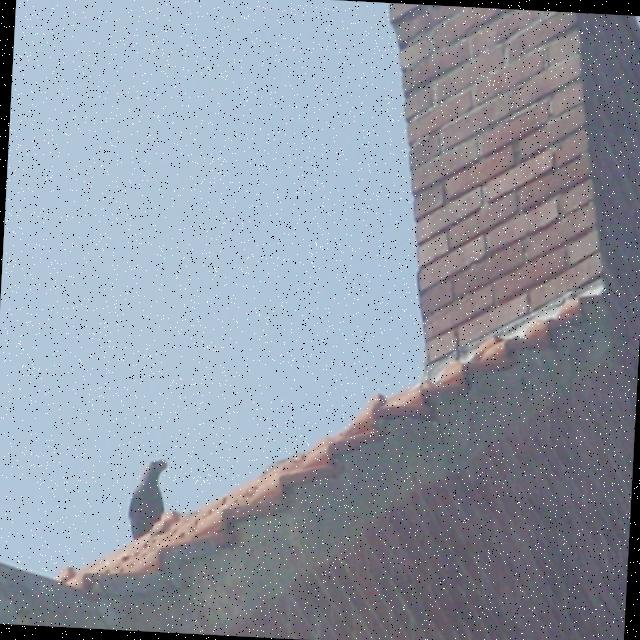bird: (124, 454, 174, 546)
